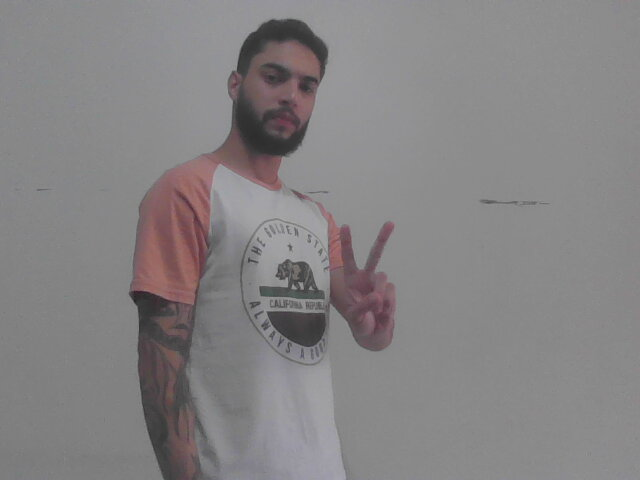v: (328, 216, 407, 351)
